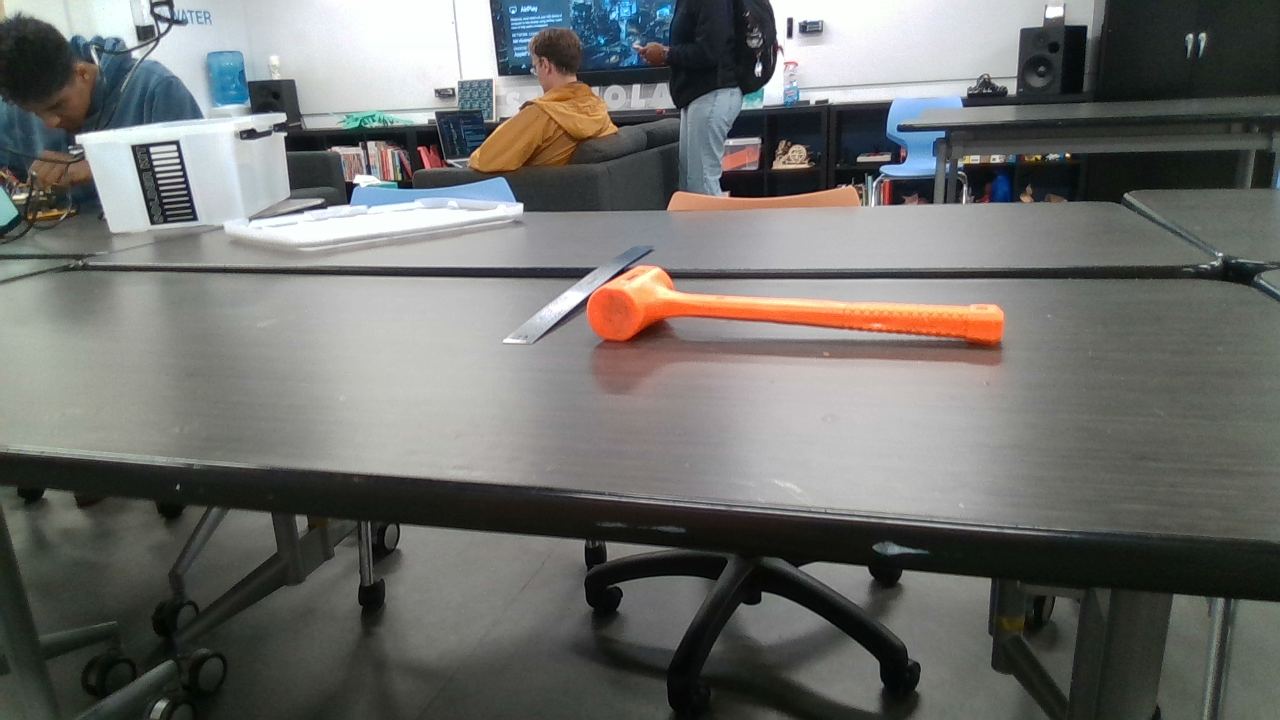Orange Hammer: (609, 264, 1002, 347)
